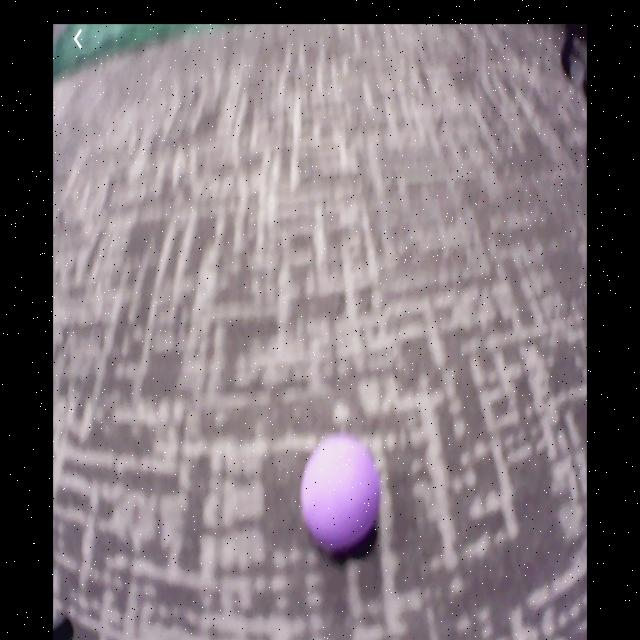ball: (300, 434, 380, 552)
